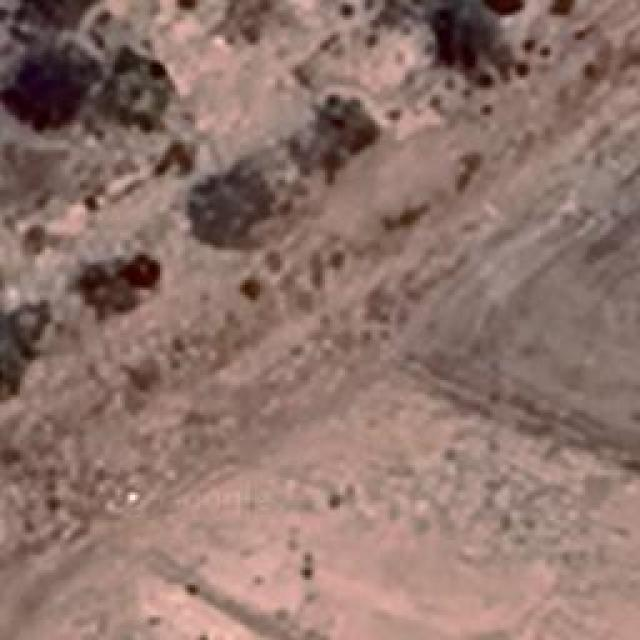PalmTree: (16, 78, 68, 352), (0, 300, 20, 400)
